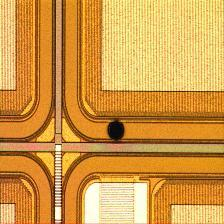PARTICLE: (105, 120, 128, 142)
